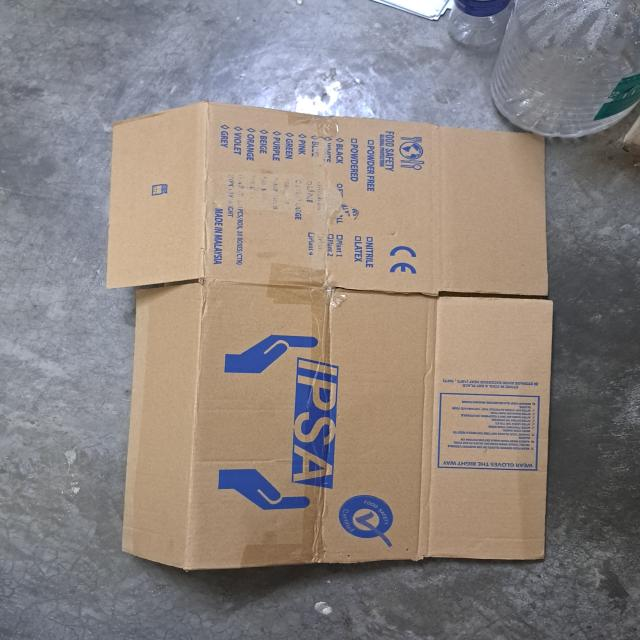cardboard: (103, 100, 552, 571)
plastic bottle: (491, 0, 640, 138), (445, 0, 513, 49)
